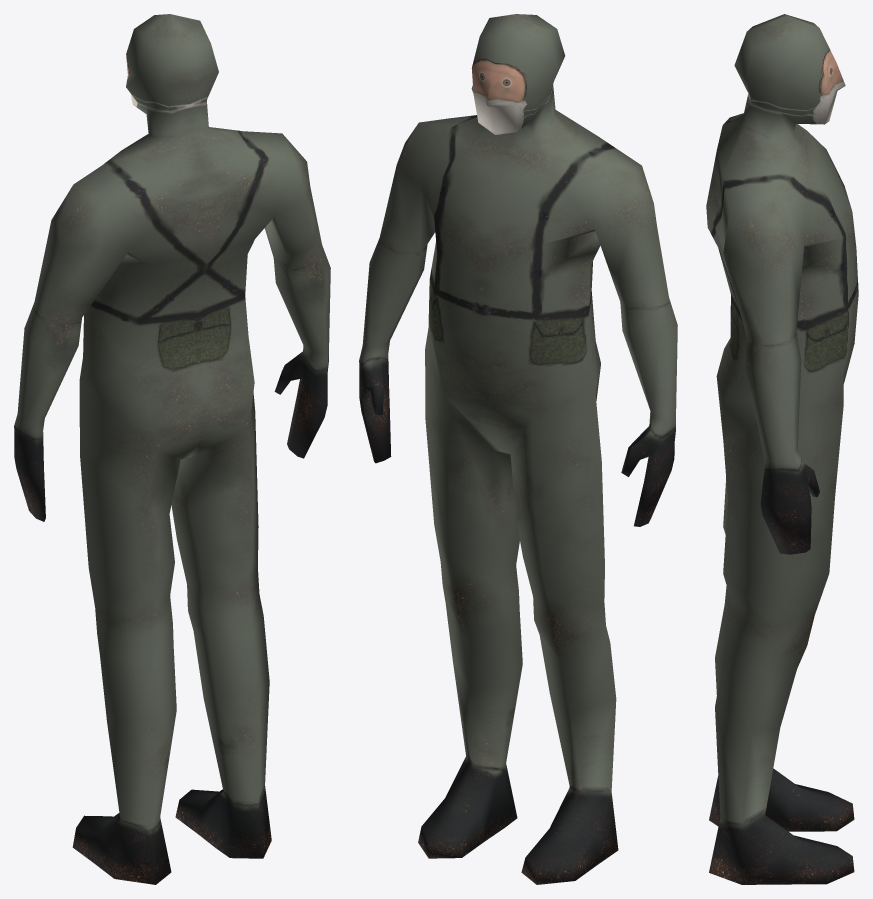
File: gargamel.glb
3 renders of one model, left to right at view 1: azimuth 30°, elevation 25°; view 2: azimuth 150°, elevation 25°; view 3: azimuth 270°, elevation 25°, orthographic.
Visible parts, largest first — view 1: Character_Male; view 2: Character_Male; view 3: Character_Male.
Part boxes in pixels (x1,y1,x2,y2): Character_Male: (14,14,330,884); Character_Male: (359,14,677,884); Character_Male: (706,14,858,884).
Bounding box in the file's own units: 0.7565 × 1.95 × 0.3237.
1 material, 1 textured.
